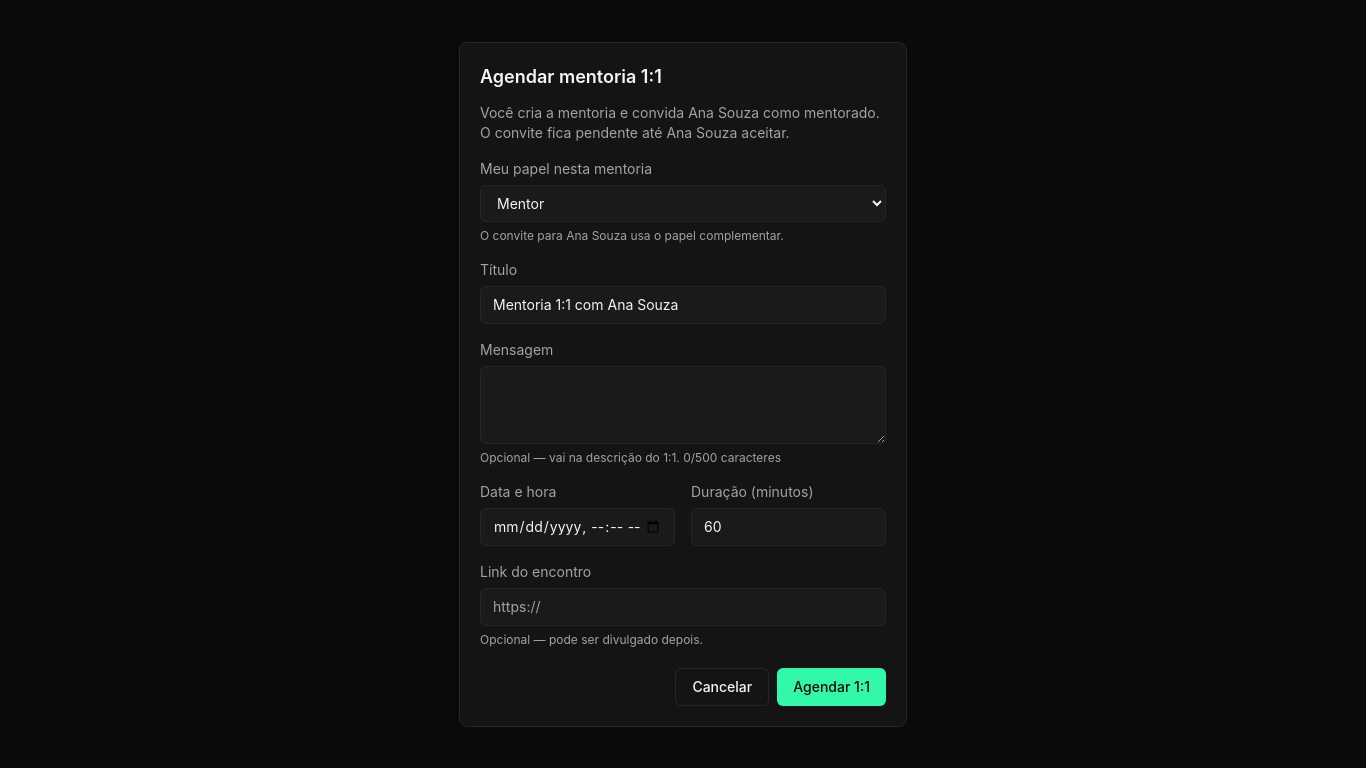
ScheduleMentoringModal › data no passado é barrada localmente
Type "2020-01-01T10:00" into the field labelled "Data e hora". click: (578, 526)
box: [480, 508, 675, 546]
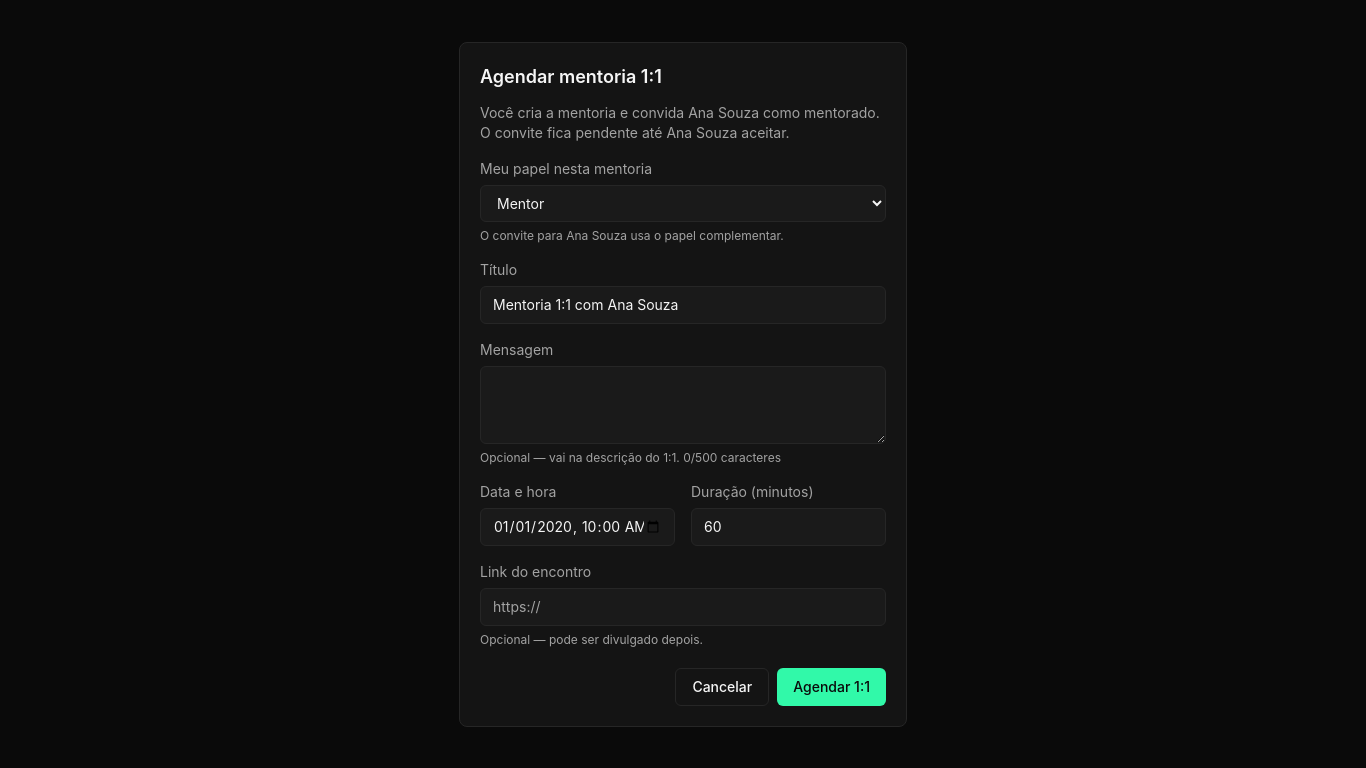
Click the button "Agendar 1:1". click: (832, 686)
box: [777, 668, 886, 706]
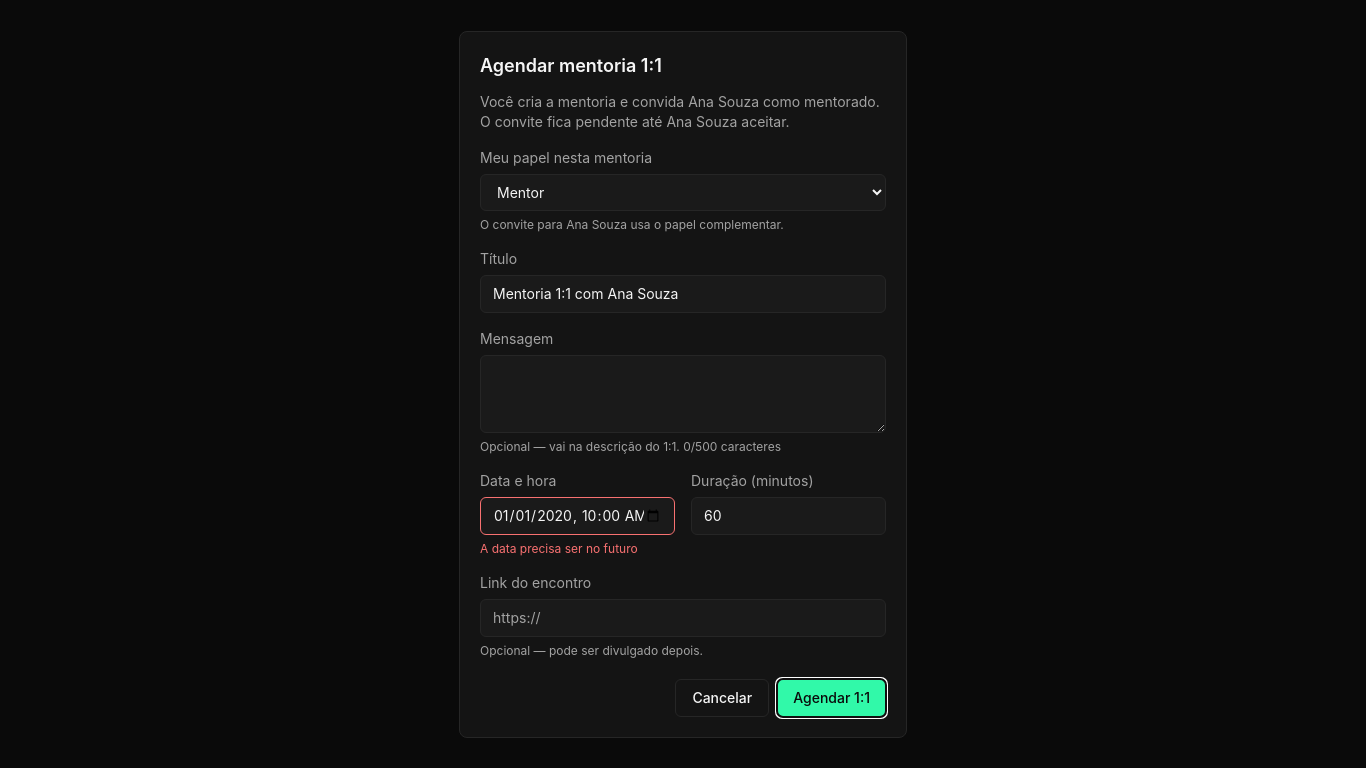
Result: the text "A data precisa ser no futuro" is shown at [480, 540, 638, 556]
